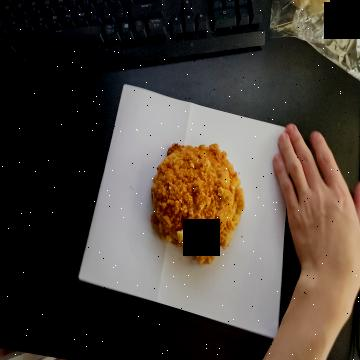soboru_bread: (150, 141, 241, 270)
